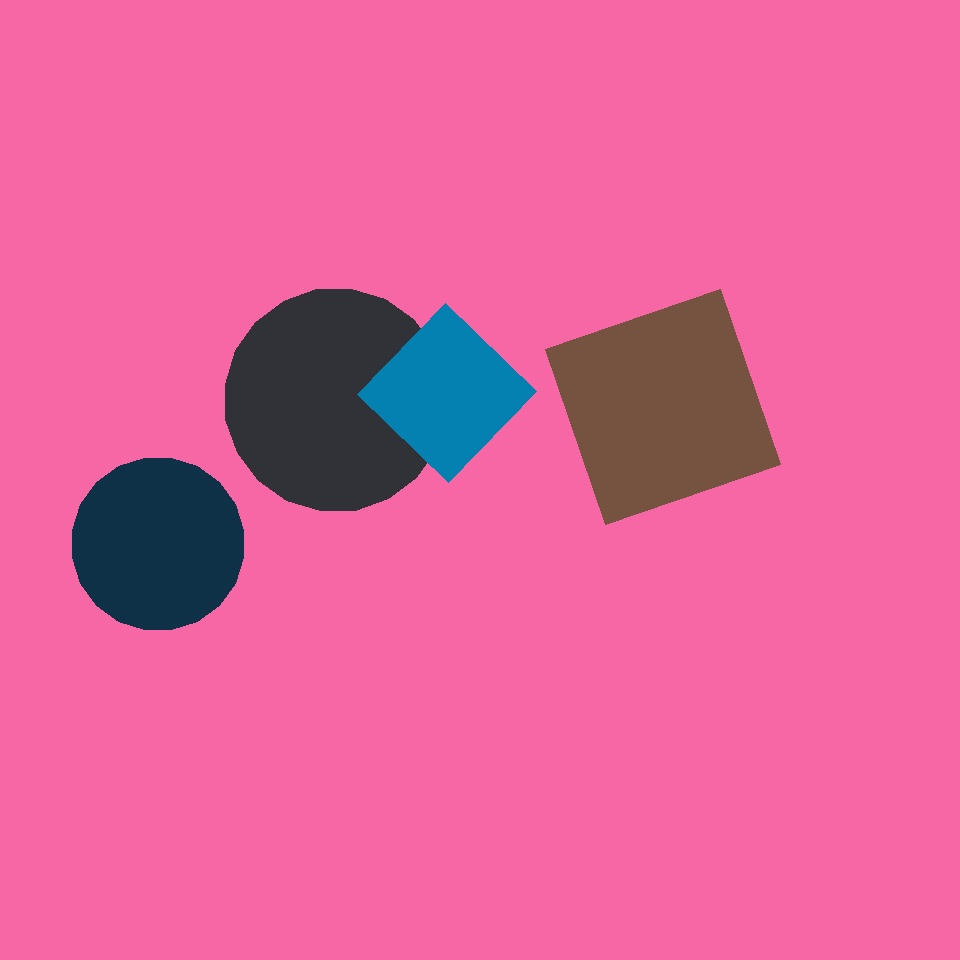square: (546, 290, 781, 524), (358, 304, 536, 482)
triangle: (225, 290, 446, 510), (72, 458, 244, 630)
